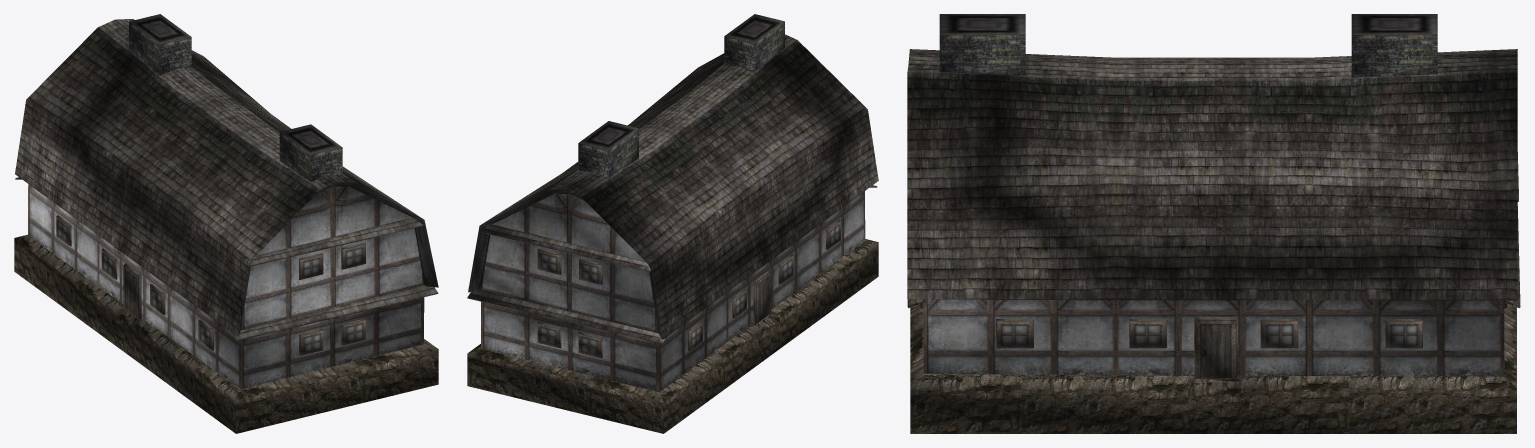
Rendered from house1-02.obj.
3 renders of one model, left to right at view 1: azimuth 30°, elevation 25°; view 2: azimuth 150°, elevation 25°; view 3: azimuth 270°, elevation 25°, orthographic. The views are drawn at different scales.
Size of the model in its own units: 9.83 by 11.61 by 18.85.
